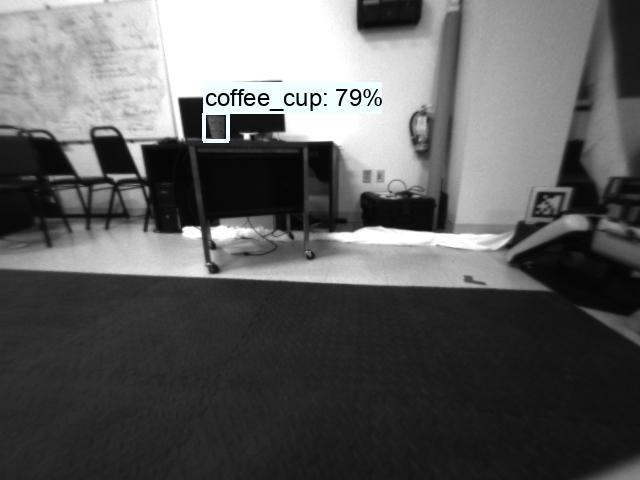coffee_cup: (203, 113, 227, 139)
